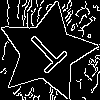T: (21, 27, 75, 81)
